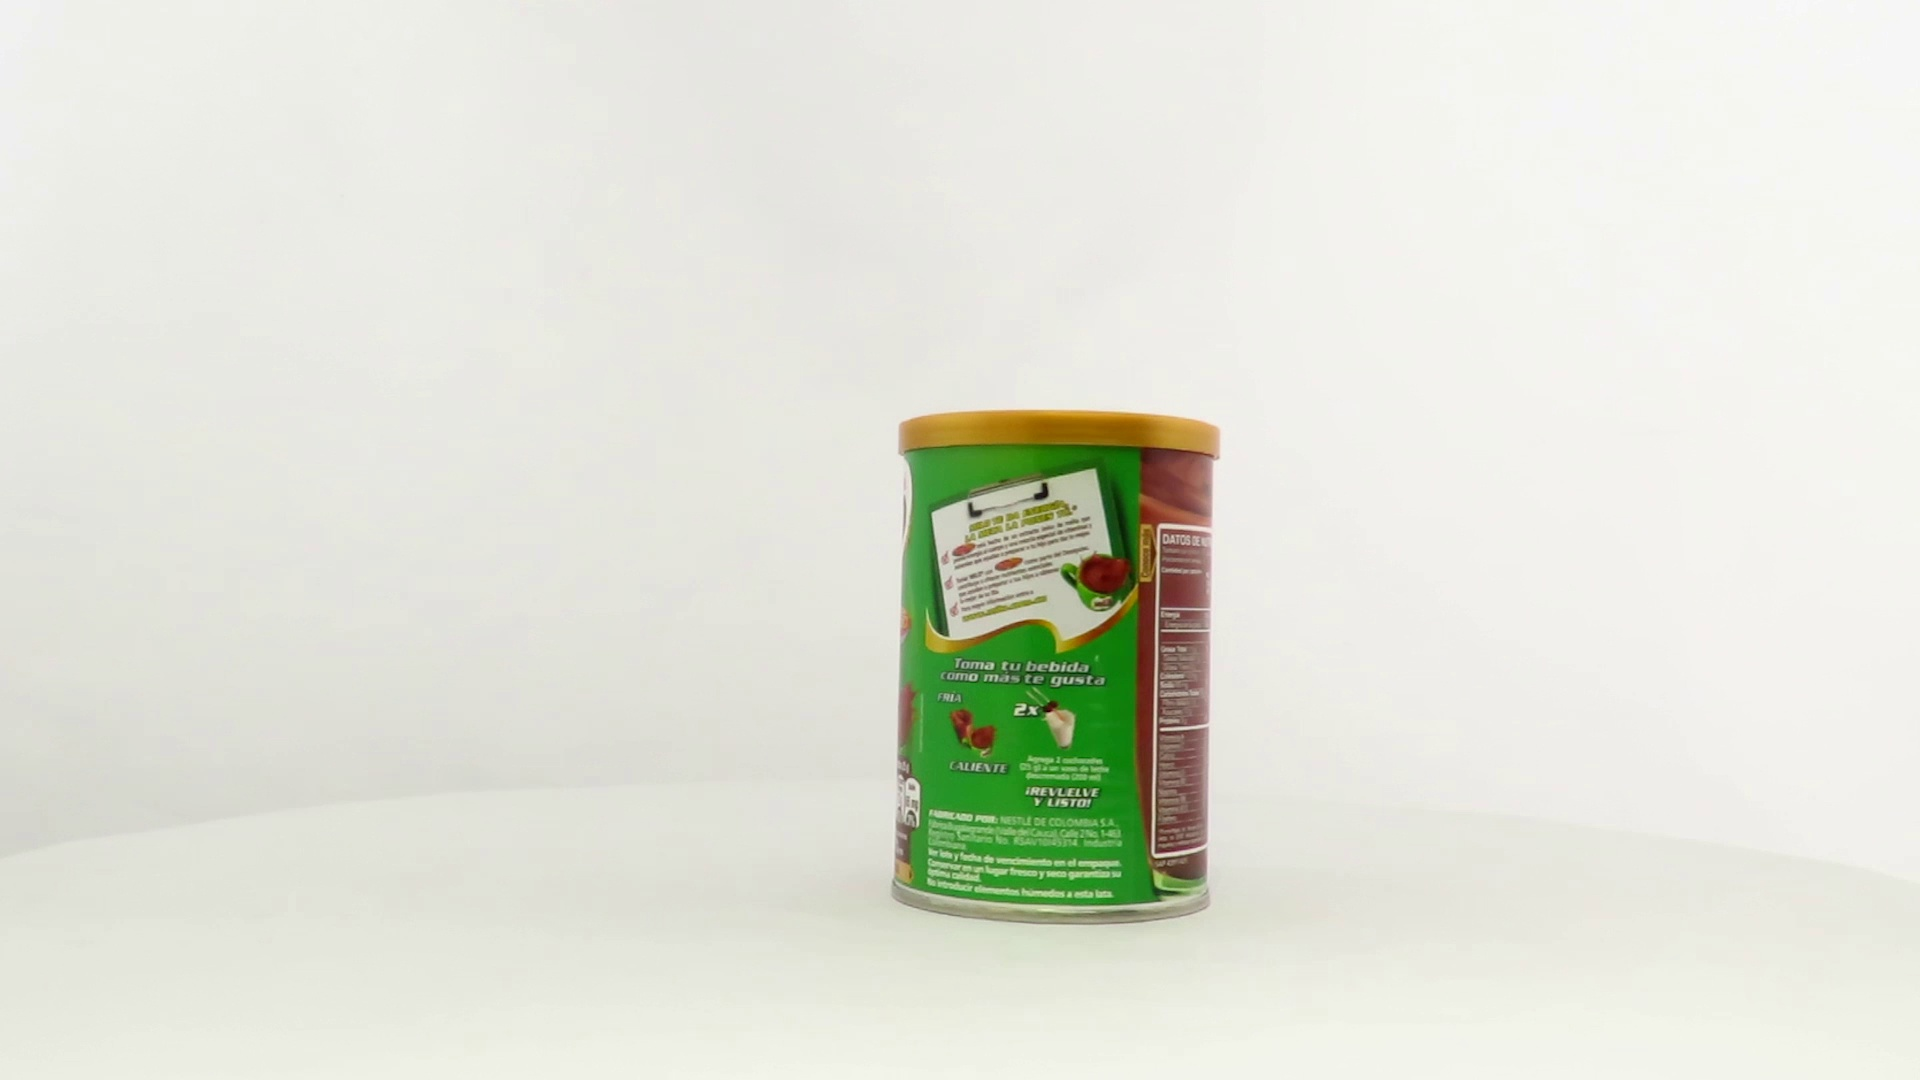COL0170203LAT20000: (886, 404, 1226, 931)
